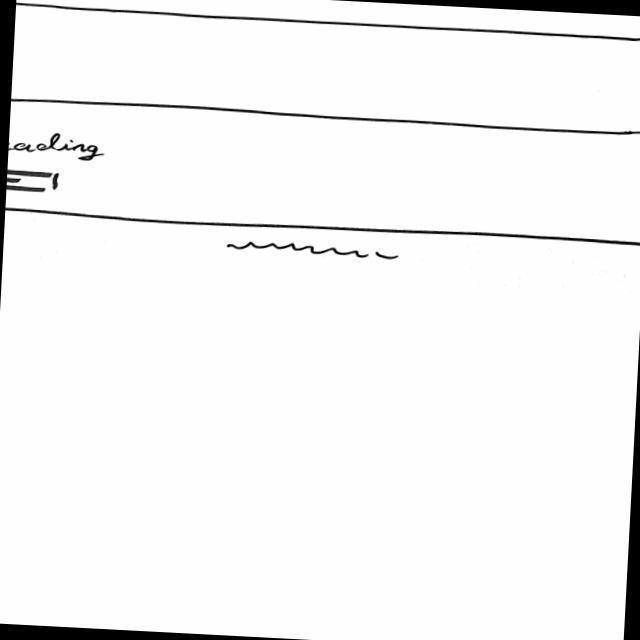container: (11, 1, 640, 142)
icon-button: (8, 168, 63, 195)
input: (9, 131, 109, 164)
text: (217, 241, 403, 264)
